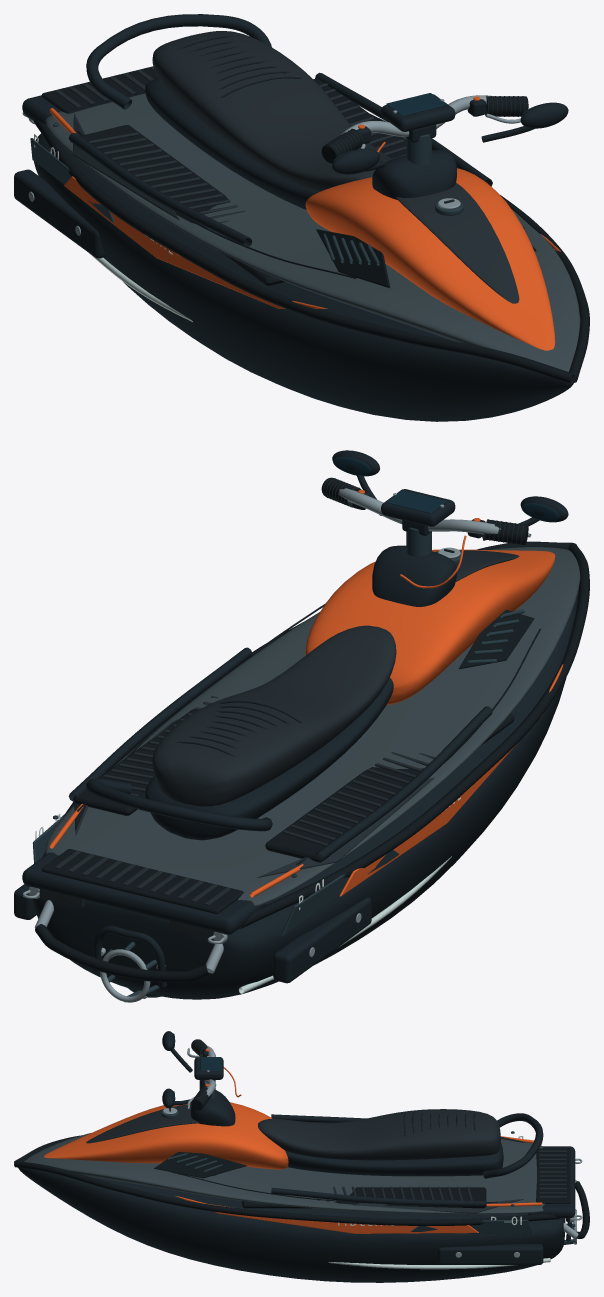
Rendered from Tideline R-01.glb.
The picture shows the model from 3 angles, top to bottom: view 1: azimuth 30°, elevation 25°; view 2: azimuth 150°, elevation 25°; view 3: azimuth 270°, elevation 25°; orthographic projection. The views are drawn at different scales.
Visible parts, largest first — view 1: 01 / Deep V composite hull, 02 / Pearl upper deck, 06 / Stepped touring saddle, 03 / Sculpted livery hood, Continuous rub rail, 04 / Recessed center bonnet, 05 / Saddle support, Footwell basin, Passenger grab handle, Rear tracking sponson, 07 / Steering console, Outer footwell coaming (+18 smaller); view 2: 02 / Pearl upper deck, 01 / Deep V composite hull, 06 / Stepped touring saddle, 03 / Sculpted livery hood, 05 / Saddle support, Continuous rub rail, Rear boarding platform, Boarding traction pad, Footwell basin, 07 / Steering console, Rear tracking sponson, Passenger grab handle (+17 smaller); view 3: 01 / Deep V composite hull, 02 / Pearl upper deck, 06 / Stepped touring saddle, 03 / Sculpted livery hood, Continuous rub rail.001, 05 / Saddle support, Rear tracking sponson.001, Footwell basin.001, Livery side spear.001, Boarding traction pad, Outer footwell coaming.001, 04 / Recessed center bonnet (+10 smaller).
Part boxes in pixels (x1=…): 01 / Deep V composite hull: x1=34, y1=133, x2=574, y2=421; 02 / Pearl upper deck: x1=45, y1=93, x2=580, y2=371; 06 / Stepped touring saddle: x1=152, y1=31, x2=392, y2=191; 03 / Sculpted livery hood: x1=305, y1=168, x2=555, y2=350; Continuous rub rail: x1=33, y1=120, x2=574, y2=383; 04 / Recessed center bonnet: x1=395, y1=182, x2=519, y2=303; 05 / Saddle support: x1=145, y1=77, x2=319, y2=209; Footwell basin: x1=74, y1=125, x2=284, y2=285; Passenger grab handle: x1=86, y1=14, x2=271, y2=109; Rear tracking sponson: x1=14, y1=169, x2=105, y2=258; 07 / Steering console: x1=372, y1=150, x2=456, y2=199; Outer footwell coaming: x1=68, y1=133, x2=252, y2=247; 02 / Pearl upper deck: x1=45, y1=547, x2=580, y2=906; 01 / Deep V composite hull: x1=33, y1=588, x2=578, y2=999; 06 / Stepped touring saddle: x1=152, y1=625, x2=396, y2=806; 03 / Sculpted livery hood: x1=305, y1=549, x2=555, y2=704; 05 / Saddle support: x1=145, y1=677, x2=393, y2=840; Continuous rub rail: x1=239, y1=542, x2=589, y2=928; Rear boarding platform: x1=22, y1=852, x2=265, y2=934; Boarding traction pad: x1=41, y1=849, x2=243, y2=913; Footwell basin: x1=265, y1=713, x2=514, y2=862; 07 / Steering console: x1=372, y1=545, x2=456, y2=606; Rear tracking sponson: x1=273, y1=897, x2=371, y2=983; Passenger grab handle: x1=86, y1=779, x2=272, y2=831; 01 / Deep V composite hull: x1=18, y1=1167, x2=565, y2=1282; 02 / Pearl upper deck: x1=23, y1=1133, x2=544, y2=1214; 06 / Stepped touring saddle: x1=258, y1=1109, x2=500, y2=1160; 03 / Sculpted livery hood: x1=44, y1=1102, x2=288, y2=1169; Continuous rub rail.001: x1=14, y1=1161, x2=559, y2=1225; 05 / Saddle support: x1=285, y1=1142, x2=503, y2=1176; Rear tracking sponson.001: x1=438, y1=1244, x2=543, y2=1264; Footwell basin.001: x1=242, y1=1187, x2=486, y2=1208; Livery side spear.001: x1=175, y1=1195, x2=478, y2=1233; Boarding traction pad: x1=536, y1=1148, x2=570, y2=1203; Outer footwell coaming.001: x1=271, y1=1187, x2=486, y2=1206; 04 / Recessed center bonnet: x1=86, y1=1104, x2=199, y2=1143.
Size of the model in its own units: 1.57 by 1.64 by 4.15.
